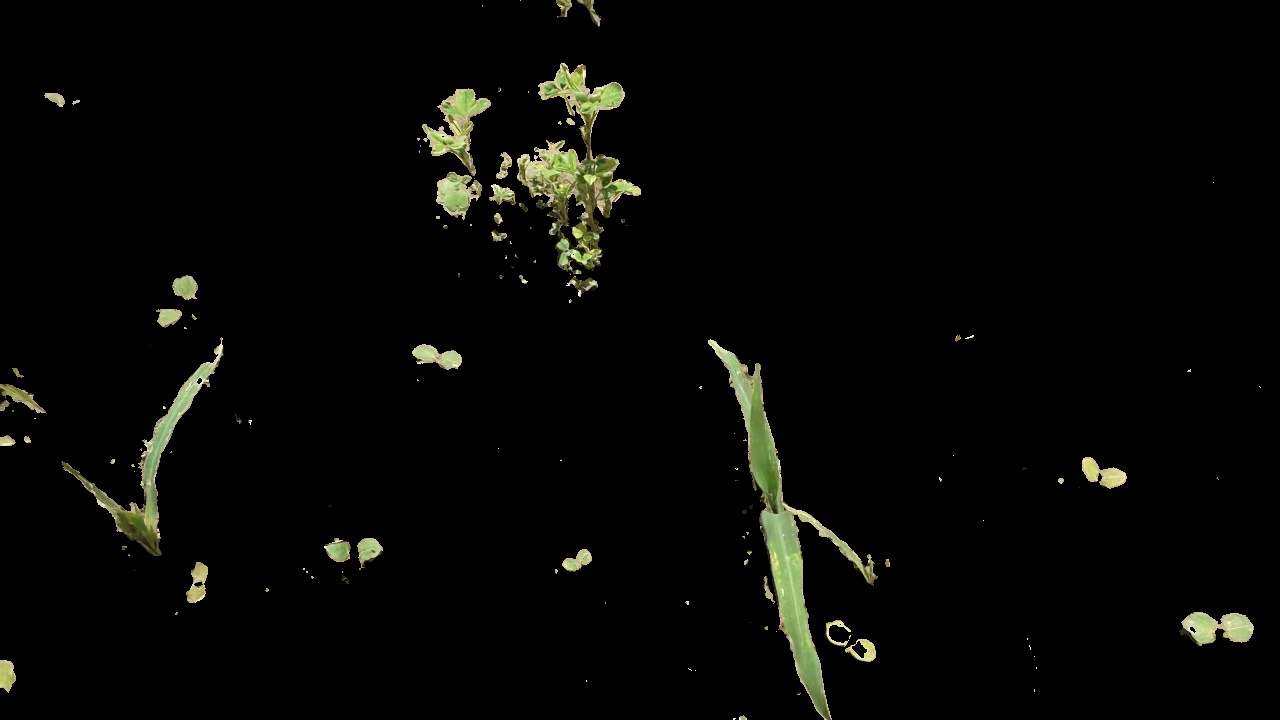crop: (706, 338, 879, 604), (59, 334, 229, 557)
weed: (419, 57, 654, 301), (150, 274, 215, 327), (1178, 604, 1254, 645), (827, 616, 881, 667), (325, 531, 390, 568), (1078, 447, 1124, 492), (405, 341, 467, 371), (180, 563, 217, 607), (560, 542, 595, 572)
